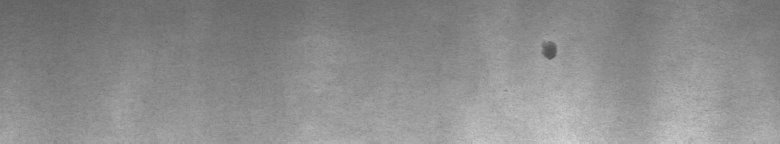fi: (536, 33, 563, 66)
